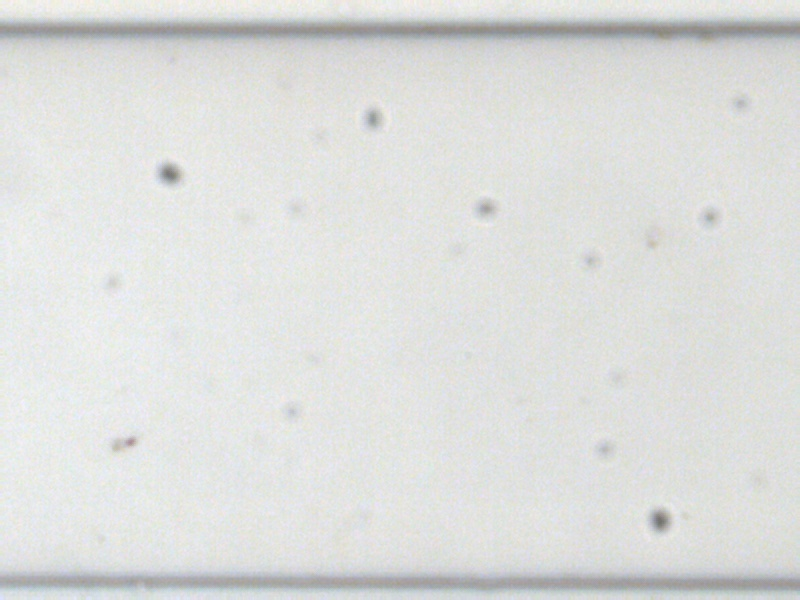Dunaliella salina: (104, 432, 139, 455)
